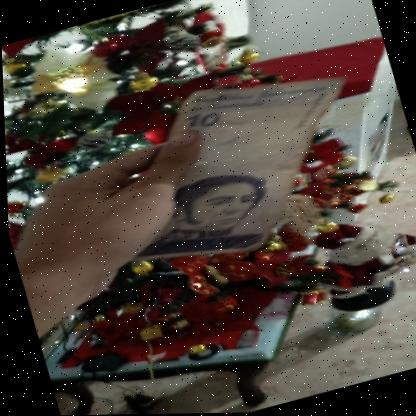ten-front-vef: (84, 55, 384, 283)
